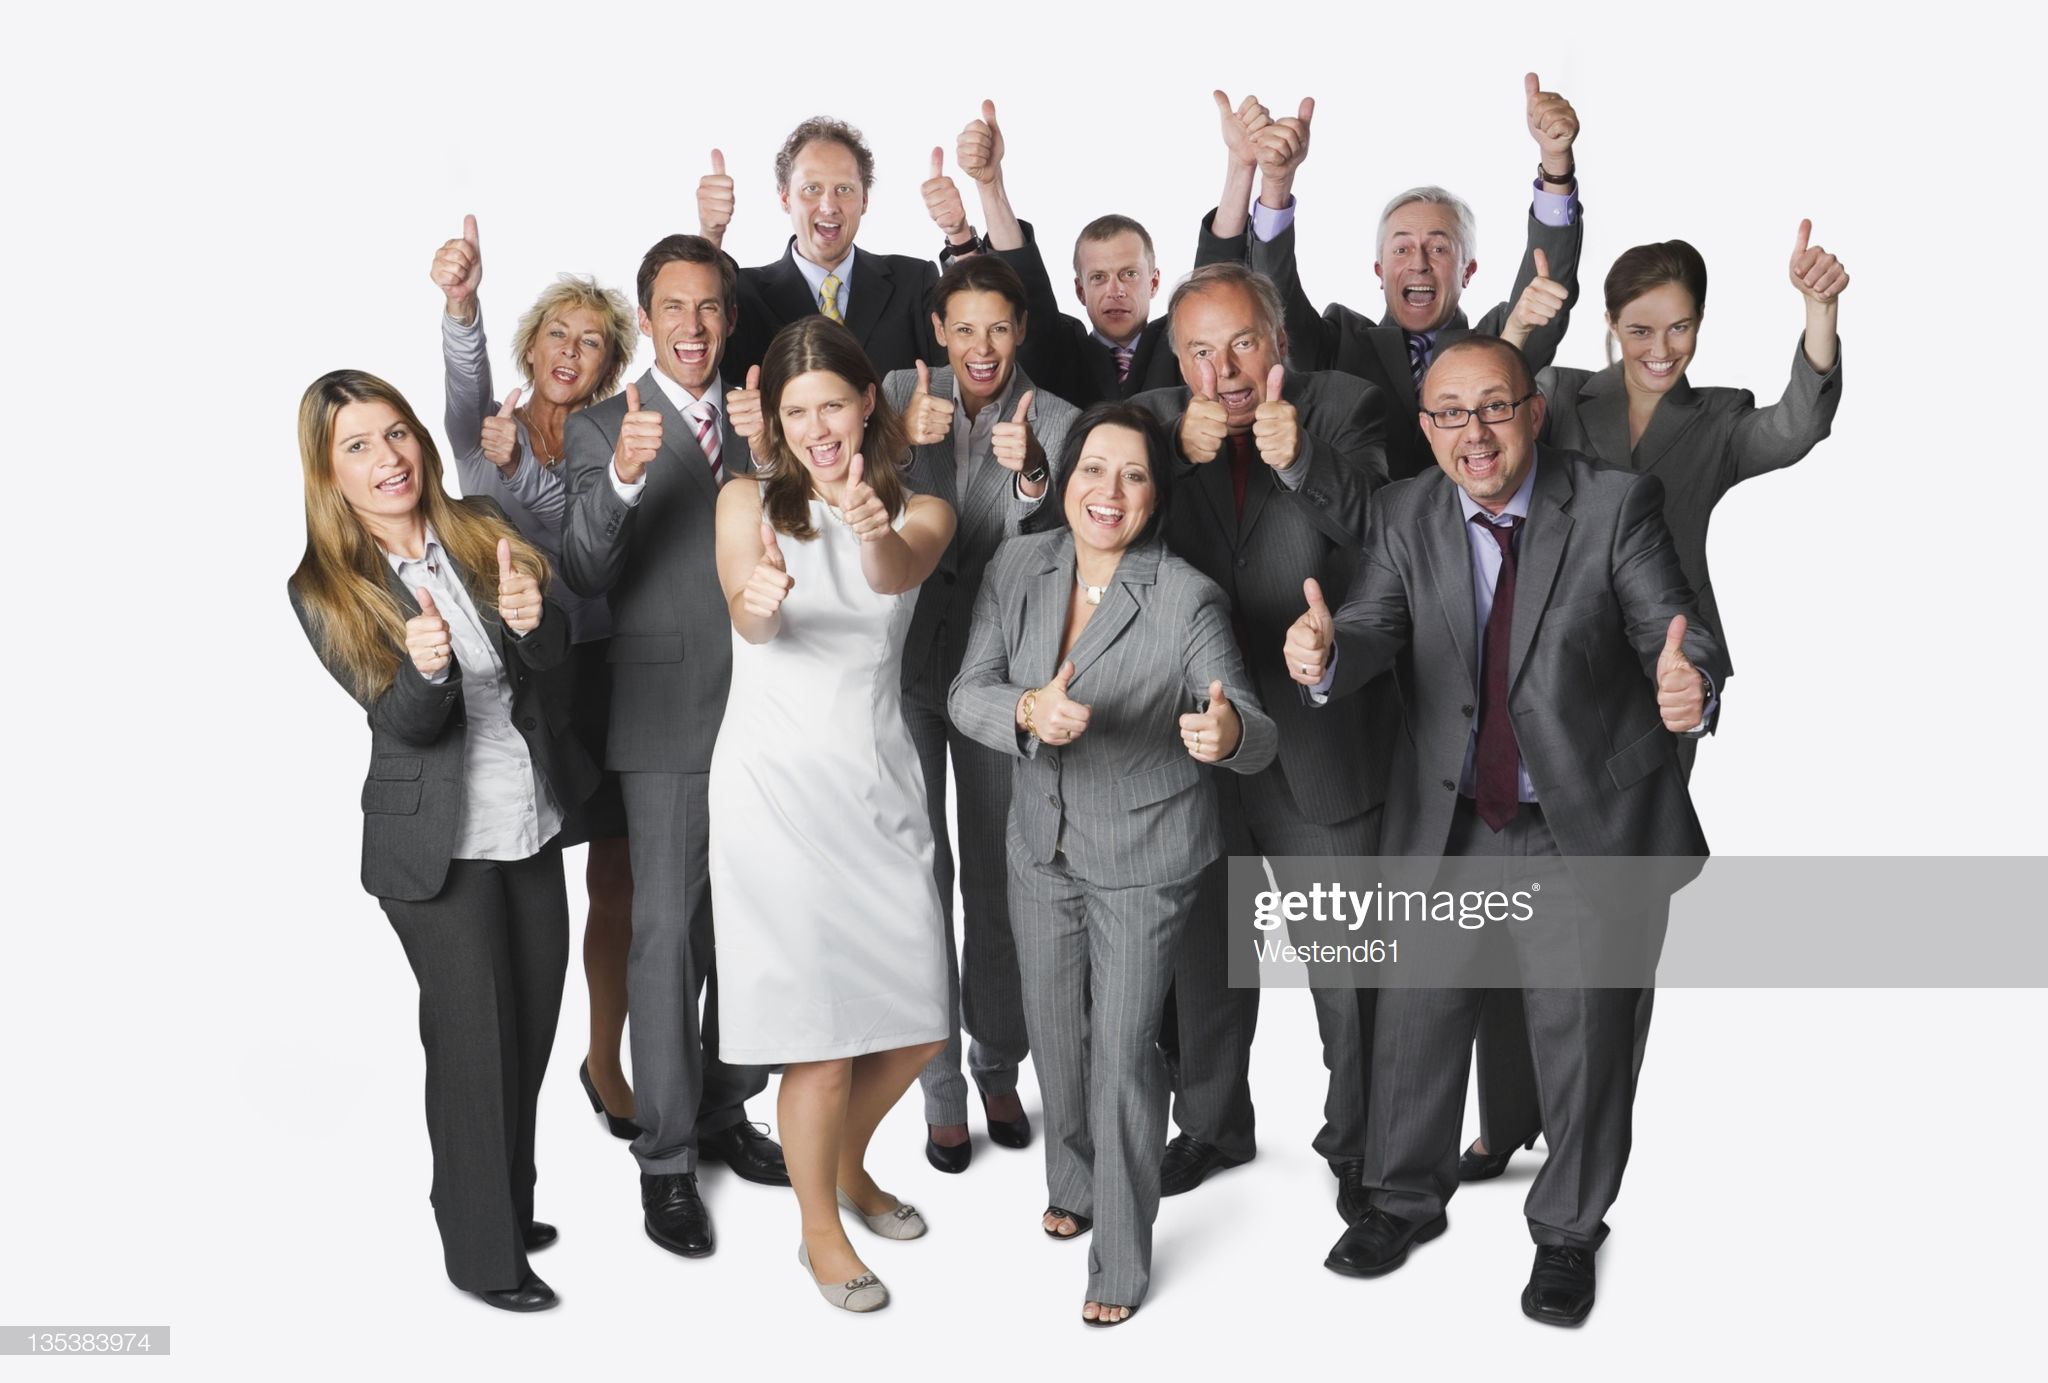thumbsup: (1656, 614, 1704, 732), (1179, 357, 1228, 465), (1283, 577, 1330, 685), (1789, 218, 1850, 301), (1252, 363, 1299, 465), (742, 522, 792, 617), (840, 452, 891, 542), (497, 539, 543, 631), (404, 587, 454, 673), (1256, 96, 1315, 168), (1043, 661, 1093, 746), (1519, 247, 1570, 329), (1178, 679, 1225, 763), (1523, 71, 1580, 140), (909, 358, 954, 446), (619, 381, 664, 465), (921, 145, 966, 228), (429, 215, 478, 287), (989, 389, 1032, 471), (478, 387, 523, 465), (1213, 90, 1273, 145), (694, 148, 736, 225), (955, 97, 999, 171), (725, 364, 764, 437)
